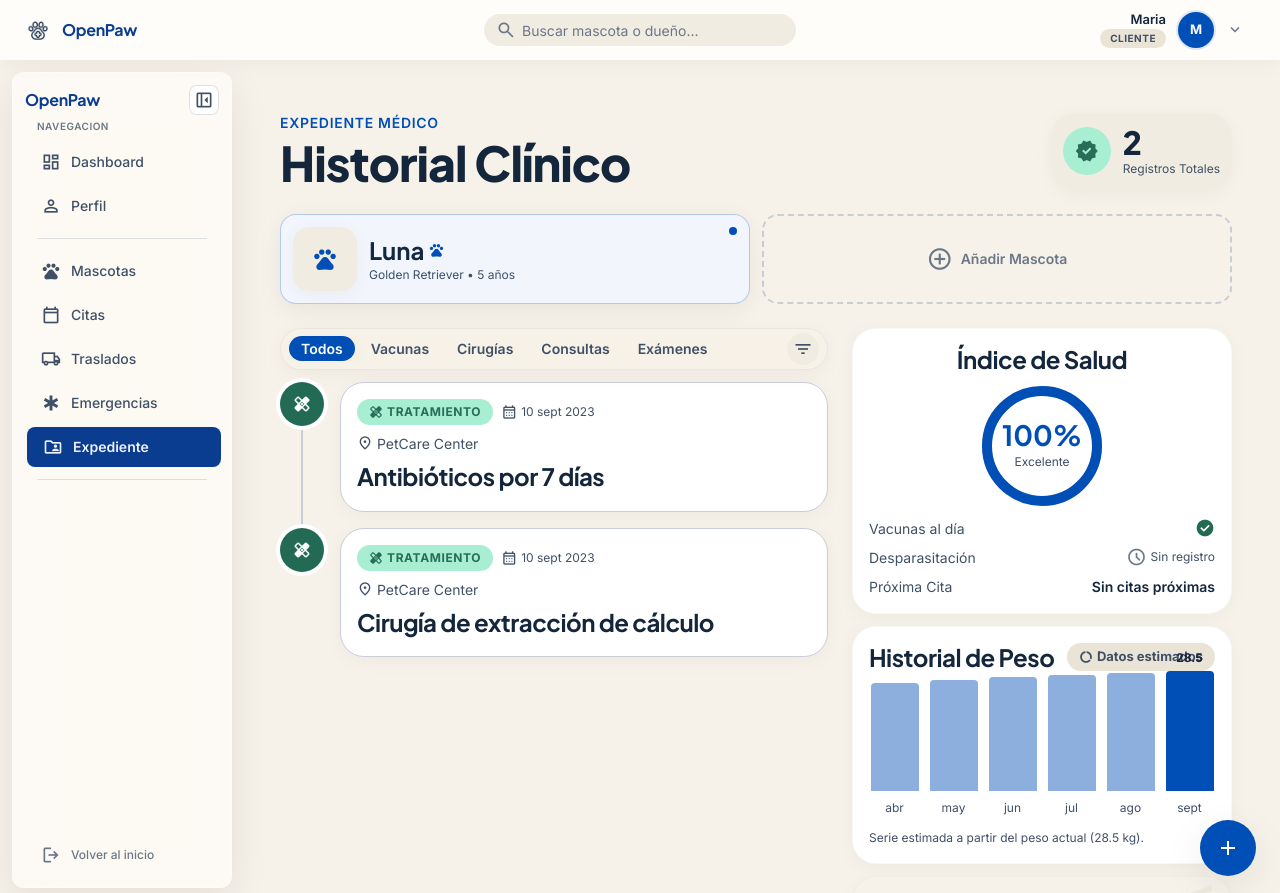
ExpedientePage - expediente médico (T29) › tratamiento farmacológico va a Consultas, no a Cirugías (M2)
Check: the heading "Antibióticos por 7 días" is shown, box left=357, top=461, right=604, bottom=491
Tratamiento farmacológico → Consultas
Click the button "Consultas" at point(576, 349), box left=529, top=336, right=622, bottom=361
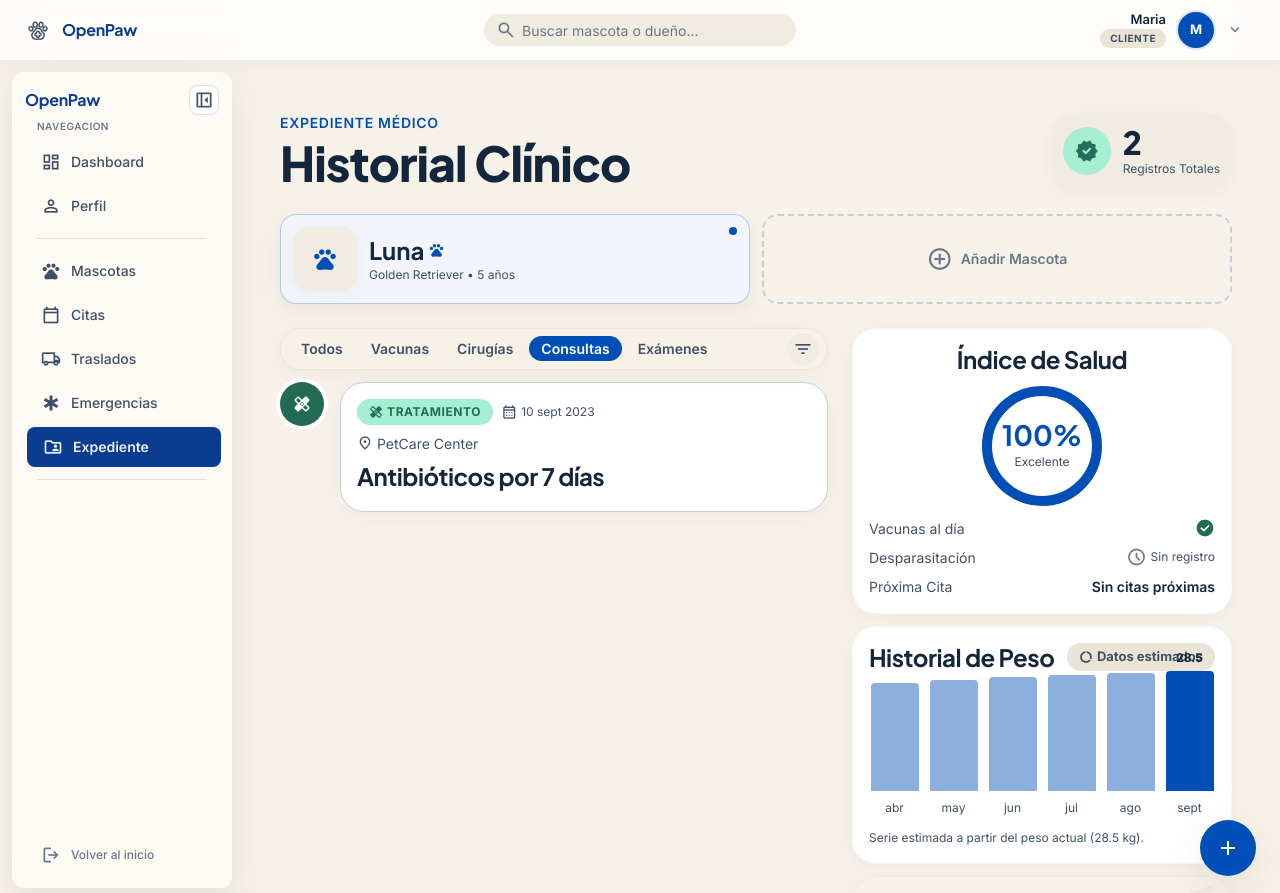
Check: the heading "Antibióticos por 7 días" is shown, box left=357, top=461, right=604, bottom=491
Solo el que menciona cirugía → Cirugías
Click the button "Cirugías" at point(485, 349), box left=445, top=336, right=525, bottom=361
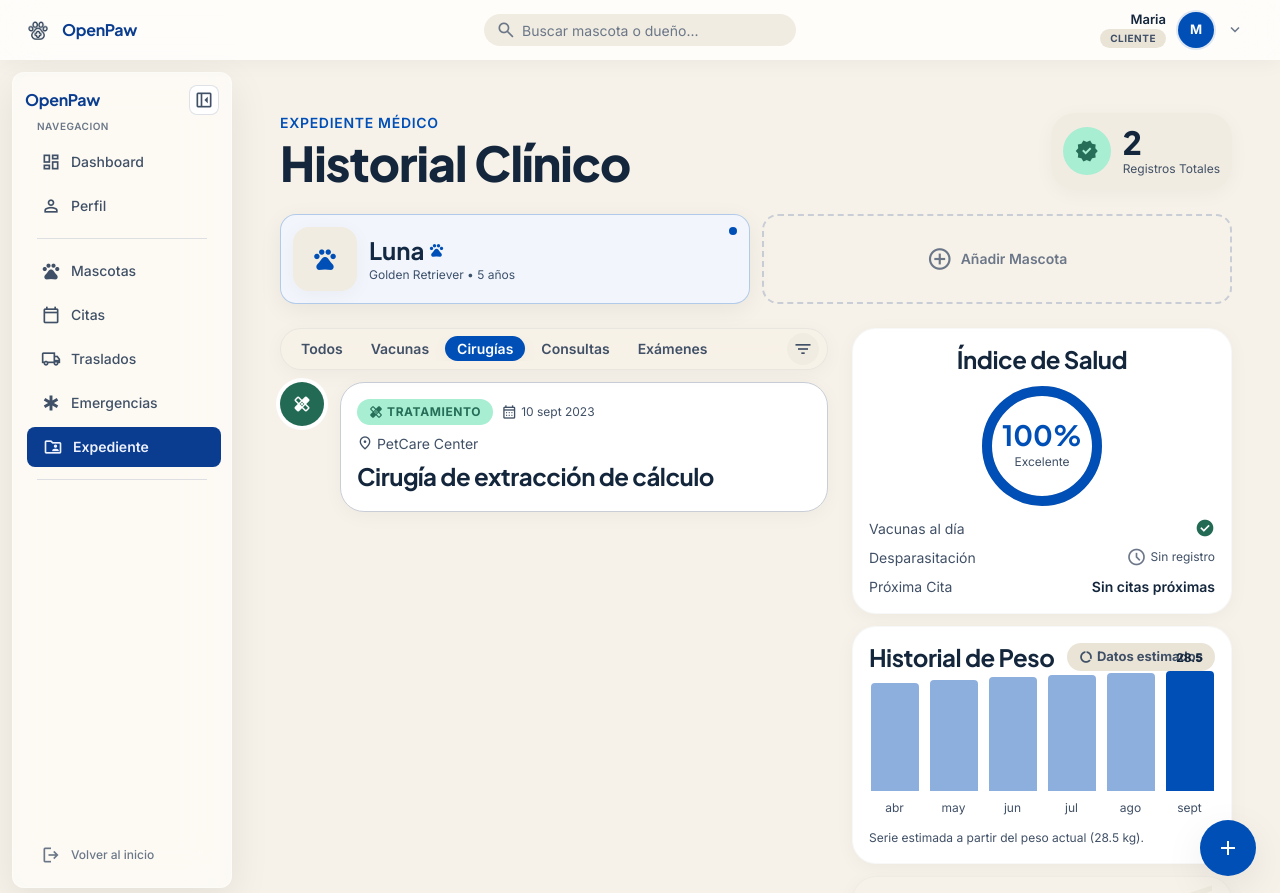
Check: the heading "Cirugía de extracción de cálculo" is shown, box left=357, top=461, right=714, bottom=491
Check: the heading "Antibióticos por 7 días" is gone
